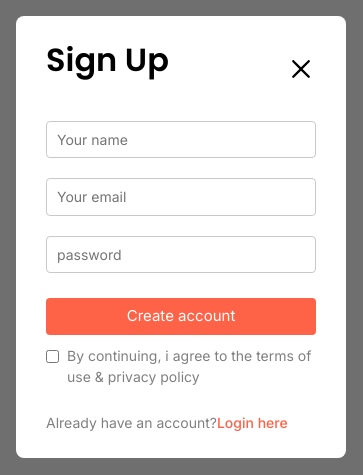
Test: LoginPopup Component › switches to sign up form when clicking sign up link
Note: First switch to login
Click the text "Login here".
click(252, 422)  # box [217, 414, 288, 430]
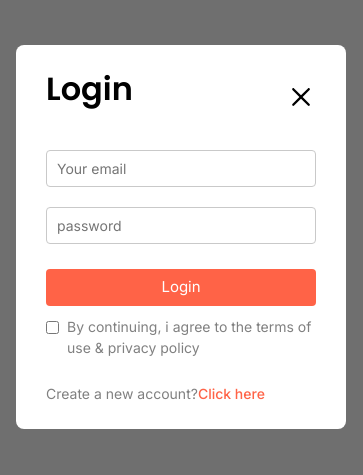
Note: Then switch back to sign up
Click the text "Click here".
click(231, 393)  # box [198, 385, 265, 402]
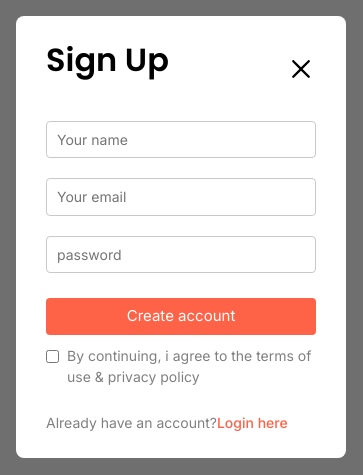
Result: the heading "Sign Up" is shown at [46, 42, 169, 80]
Result: the field with placeholder "Your name" is shown at [46, 121, 316, 158]
